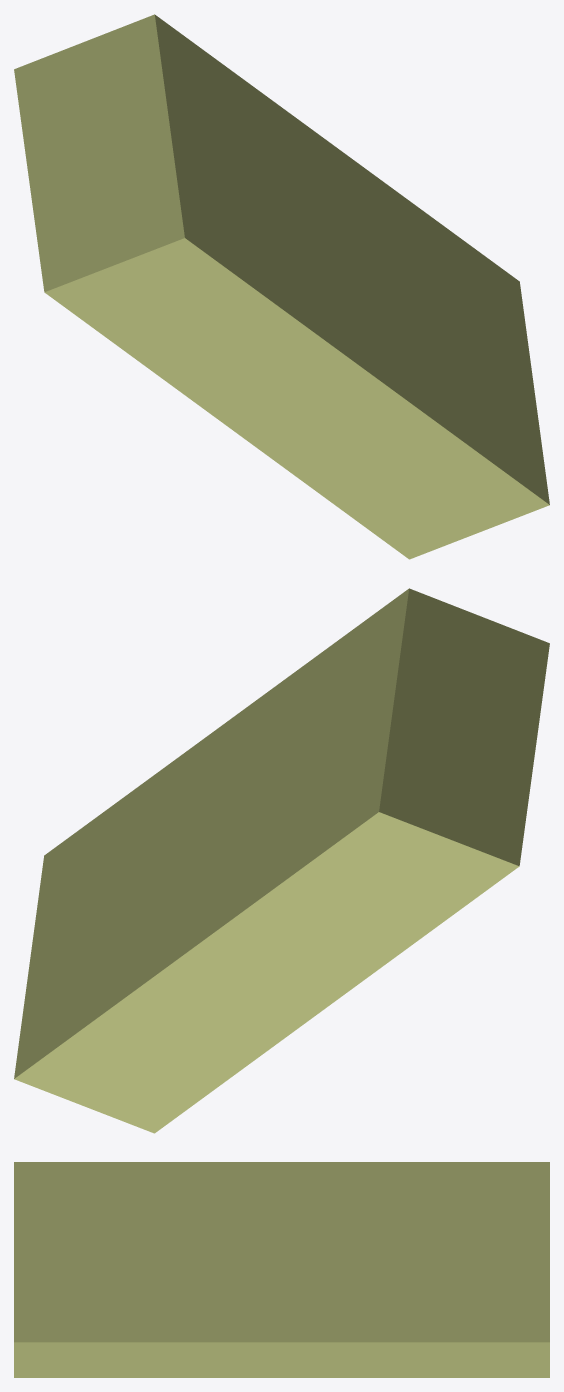
3 renders of one model, top to bottom at view 1: azimuth 30°, elevation 25°; view 2: azimuth 150°, elevation 25°; view 3: azimuth 270°, elevation 25°, orthographic. The views are drawn at different scales.
Visible parts, largest first — view 1: 0_1_3_2_1_1_1_3_2_3_2_2; view 2: 0_1_3_2_1_1_1_3_2_3_2_2; view 3: 0_1_3_2_1_1_1_3_2_3_2_2.
Part boxes in pixels (<box>): 0_1_3_2_1_1_1_3_2_3_2_2: <box>14,14,549,559</box>; 0_1_3_2_1_1_1_3_2_3_2_2: <box>14,588,549,1133</box>; 0_1_3_2_1_1_1_3_2_3_2_2: <box>14,1162,549,1377</box>.
Size of the model in its own units: 2.43 by 3.42 by 9.
